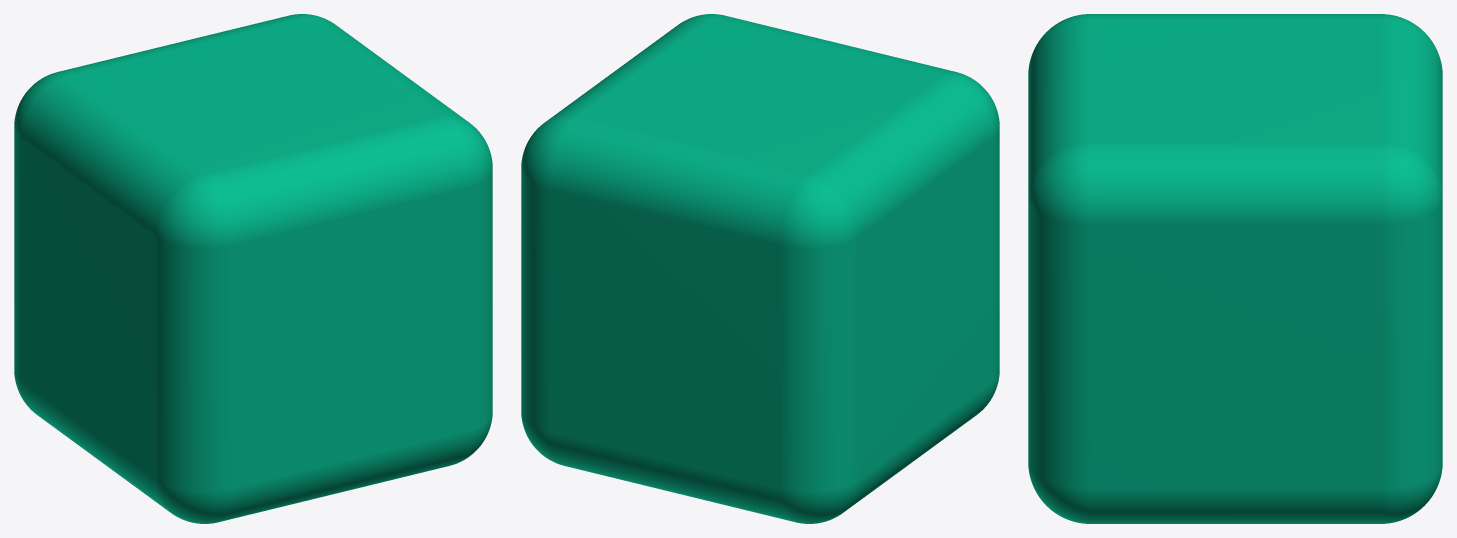
3 views of the same model, side by side, from view 1: azimuth 30°, elevation 25°; view 2: azimuth 150°, elevation 25°; view 3: azimuth 270°, elevation 25° (orthographic). The views are drawn at different scales.
Parts seen in each view (by area): view 1: Cube; view 2: Cube; view 3: Cube.
Boxes of the visible parts, x1,y1,x2,y2 form: Cube: (14,14,492,523); Cube: (521,14,999,523); Cube: (1028,14,1442,523).
Bounding box in the file's own units: 4 × 4 × 4.
